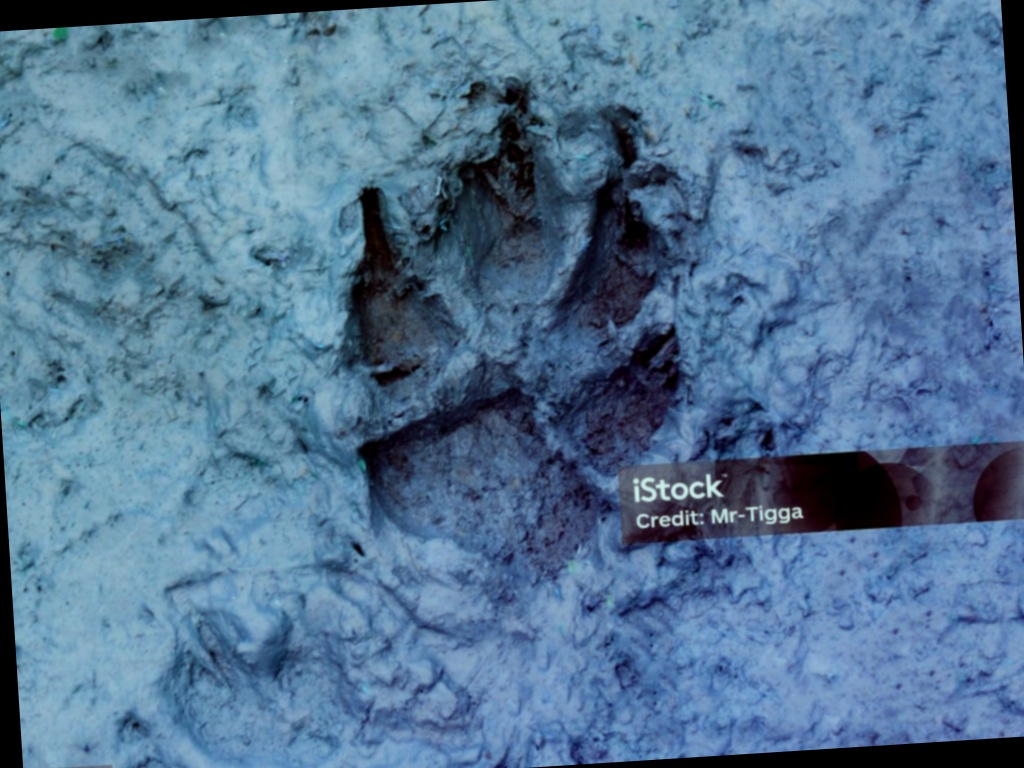loup: (262, 35, 817, 635)
